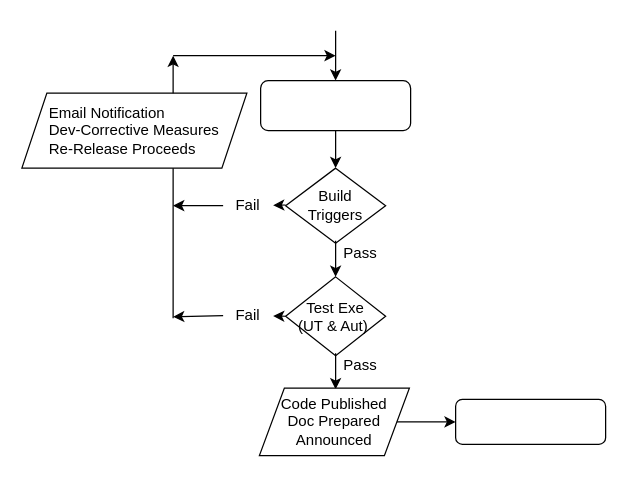
Some shapes in this 628 by 478 pixel diagram are drawn without their labels. Each missing label, with the box of its shape:
Deployment Proceeds: (454, 398, 606, 444)
Release Tagged: (259, 79, 411, 131)
